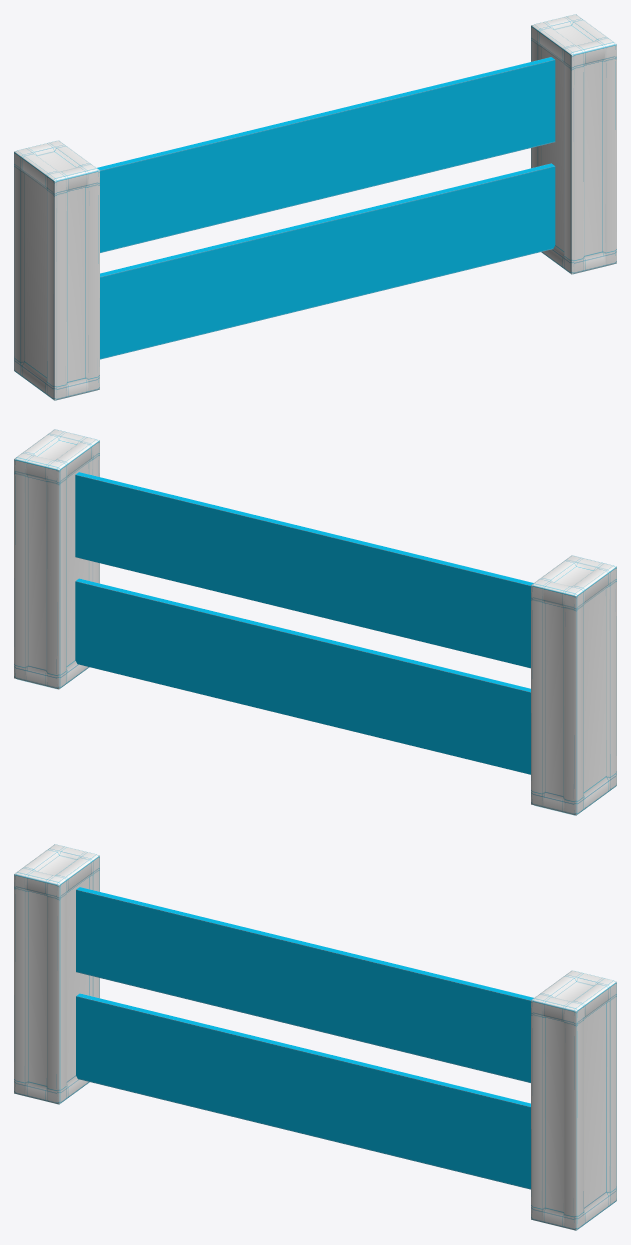
File: glass_wall.fbx
3 views of the same model, one above another, from view 1: azimuth 30°, elevation 25°; view 2: azimuth 150°, elevation 25°; view 3: azimuth 330°, elevation 25° (orthographic).
Visible parts, largest first — view 1: pCube4, pCube3, pCube6, pCube5; view 2: pCube4, pCube3, pCube6, pCube5; view 3: pCube4, pCube3, pCube5, pCube6.
Part boxes in pixels (x1,y1,x2,y2): pCube4: (97,57,555,252); pCube3: (100,163,555,359); pCube6: (14,140,99,400); pCube5: (531,14,616,274); pCube4: (75,472,533,668); pCube3: (75,578,530,774); pCube6: (531,555,616,815); pCube5: (14,429,99,689); pCube4: (76,887,533,1082); pCube3: (76,993,530,1189); pCube5: (531,970,616,1230); pCube6: (14,844,99,1104).
Bounding box in the file's own units: 1381 × 521 × 175.
